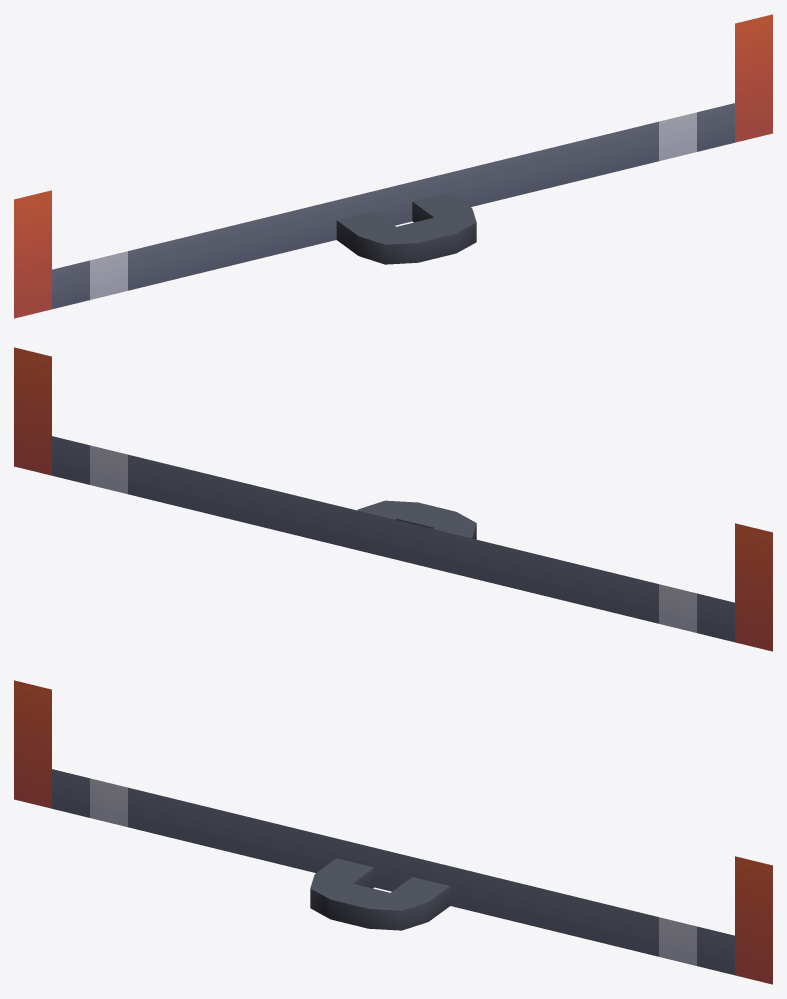
The model's file is track-road-wide-cap-back.glb.
3 renders of one model, top to bottom at view 1: azimuth 30°, elevation 25°; view 2: azimuth 150°, elevation 25°; view 3: azimuth 330°, elevation 25°, orthographic.
Parts seen in each view (by area): view 1: track-road-wide-cap-back; view 2: track-road-wide-cap-back; view 3: track-road-wide-cap-back.
Part boxes in pixels (<box>): track-road-wide-cap-back: <box>14,14,772,318</box>; track-road-wide-cap-back: <box>14,347,772,651</box>; track-road-wide-cap-back: <box>14,680,772,984</box>.
Bounding box in the file's own units: 2 × 0.3001 × 0.2.
Materials: 1 (1 with a texture image).
